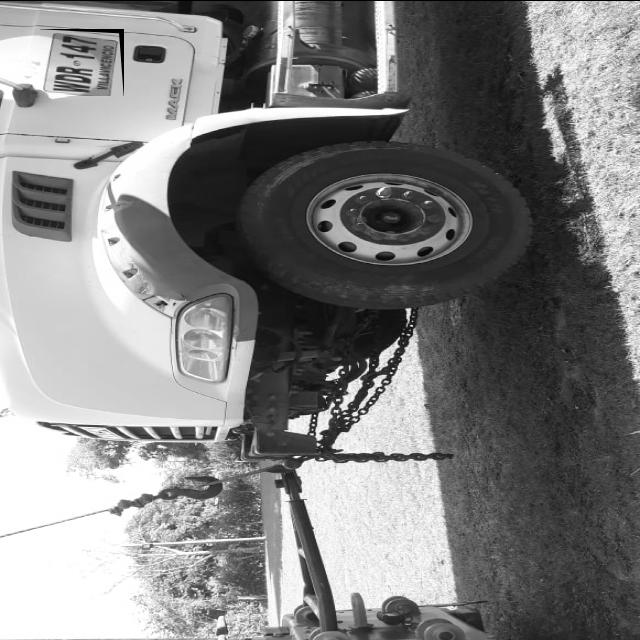plate: (40, 29, 120, 95)
